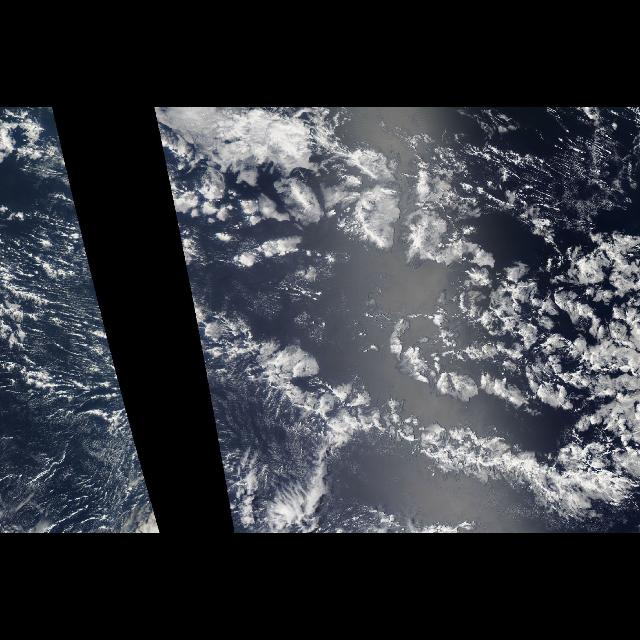Flower: (166, 127, 634, 489)
Gravel: (0, 270, 160, 532), (182, 270, 340, 532)
